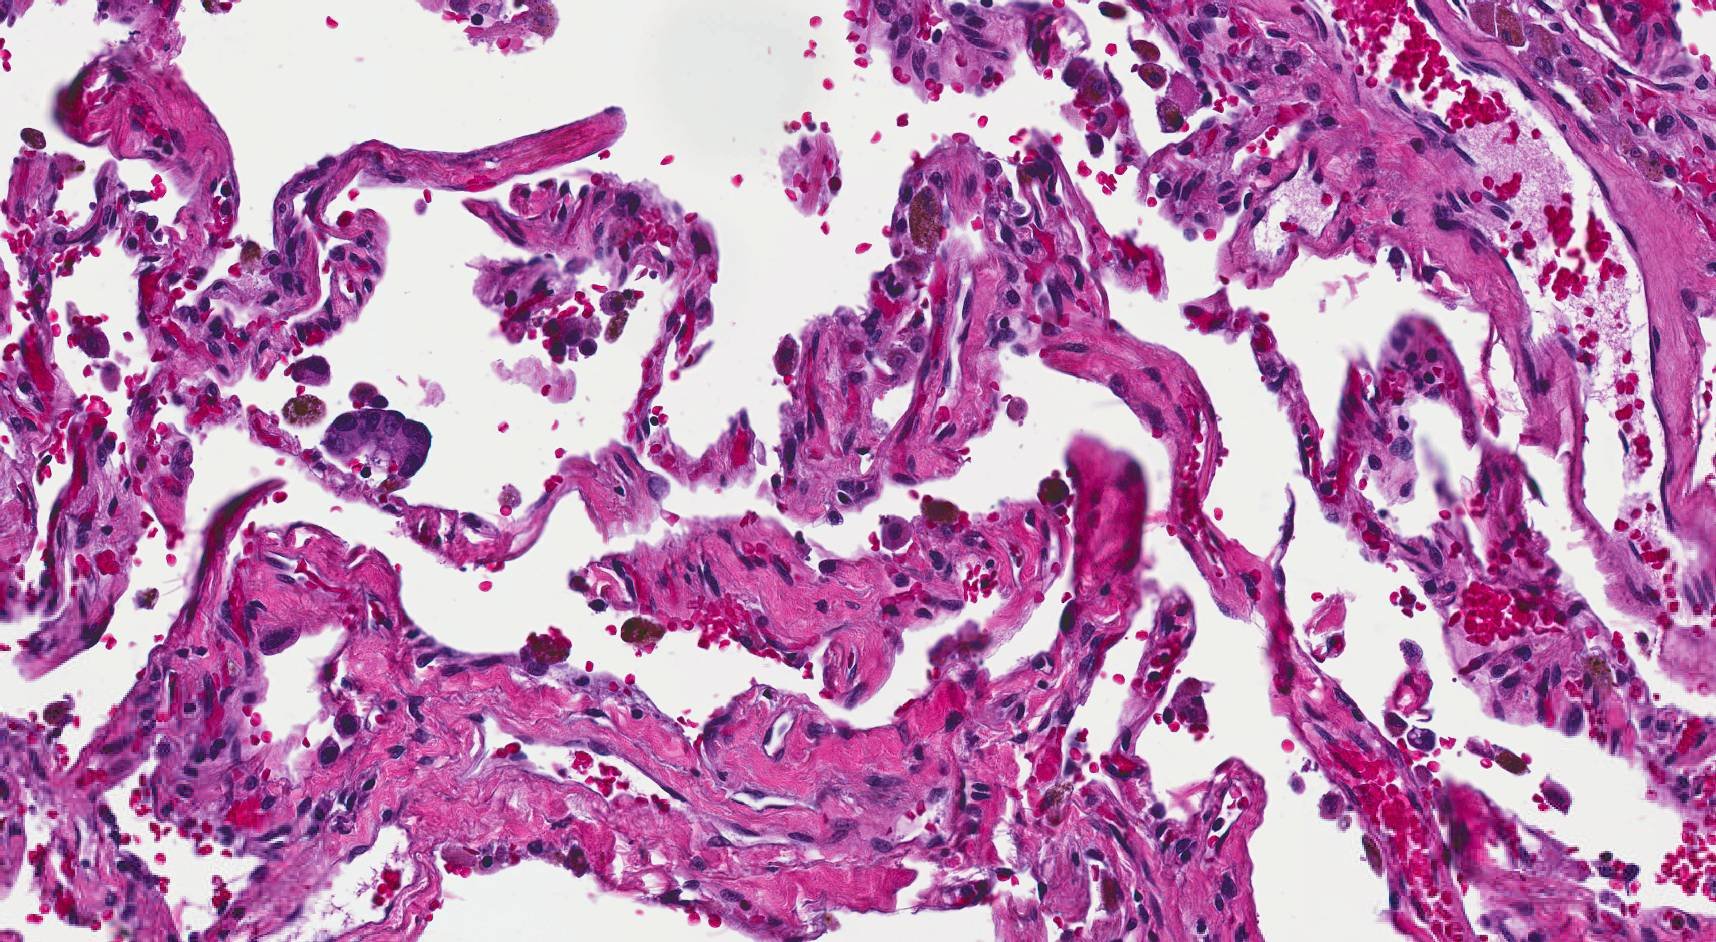stas: (320, 407, 431, 478)
